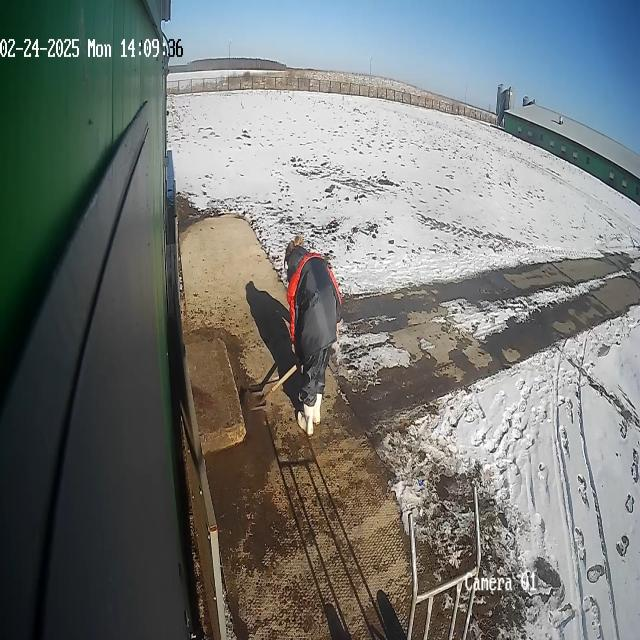Red uniform: (283, 245, 343, 413)
